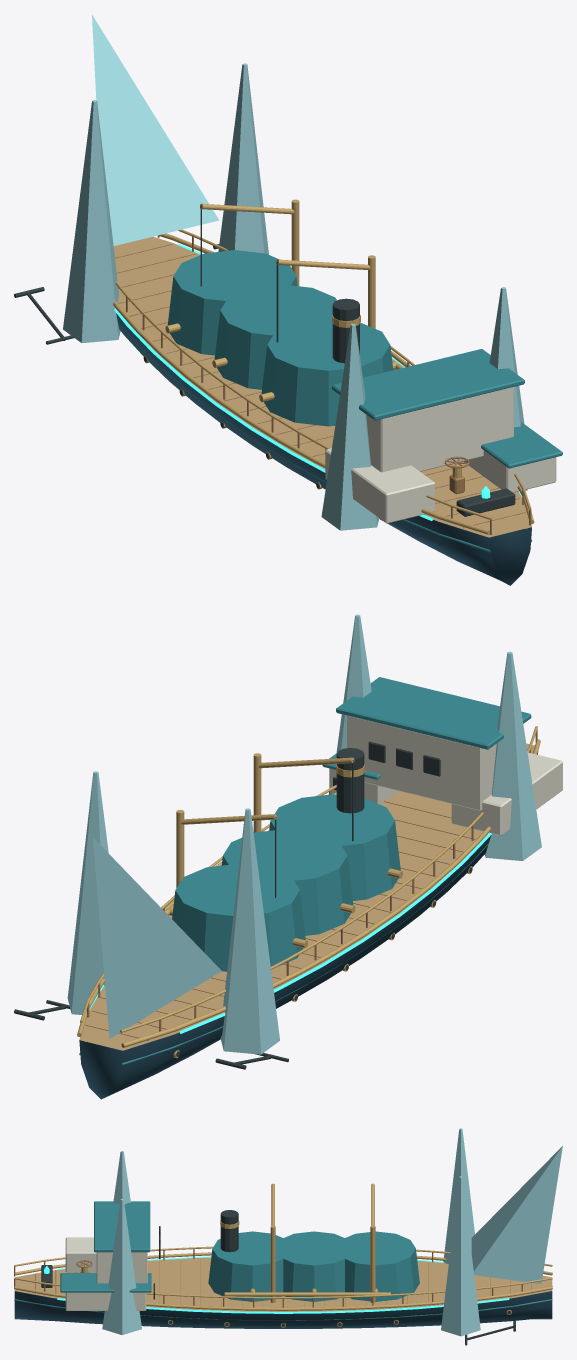
Rendered from premium_trade_giant.glb.
3 renders of one model, top to bottom at view 1: azimuth 30°, elevation 25°; view 2: azimuth 150°, elevation 25°; view 3: azimuth 270°, elevation 25°, orthographic. The views are drawn at different scales.
Parts seen in each view (by area): view 1: premium_trade_giant; view 2: premium_trade_giant; view 3: premium_trade_giant.
Part boxes in pixels (x1=…): premium_trade_giant: x1=14, y1=15, x2=562, y2=585; premium_trade_giant: x1=14, y1=614, x2=562, y2=1099; premium_trade_giant: x1=14, y1=1128, x2=562, y2=1345.
Bounding box in the file's own units: 7.03 × 7.49 × 21.45.
